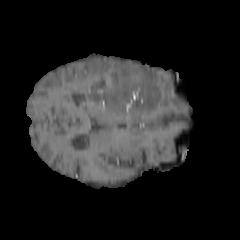glioma: (85, 66, 162, 113)
